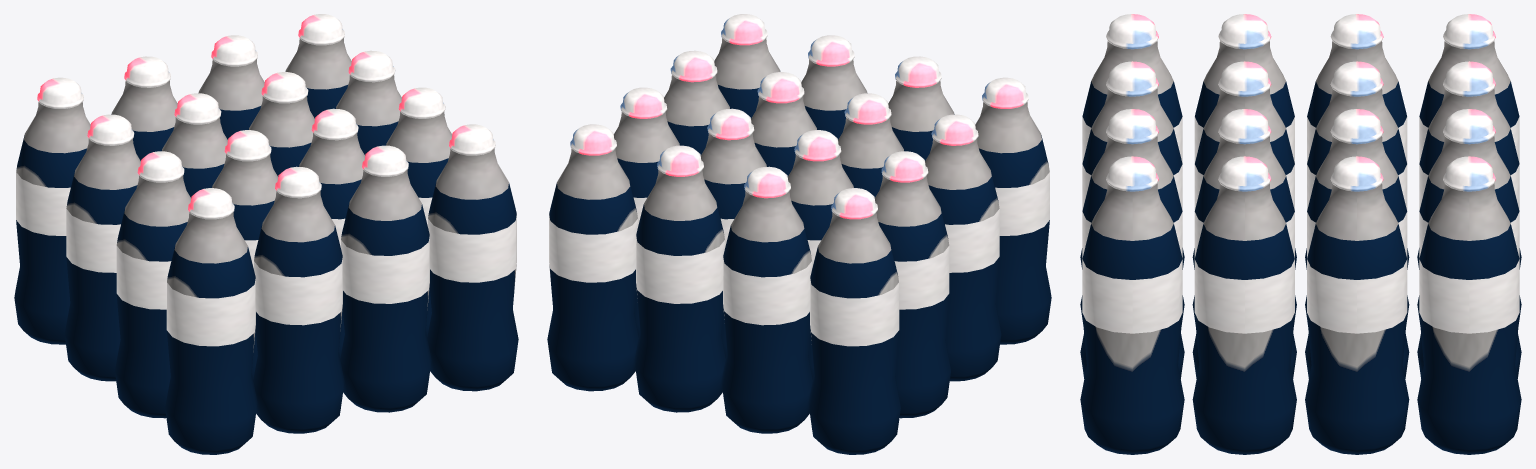
Rendered from Pepsi.fbx.
3 views of the same model, side by side, from view 1: azimuth 30°, elevation 25°; view 2: azimuth 150°, elevation 25°; view 3: azimuth 270°, elevation 25° (orthographic). The views are drawn at different scales.
Parts seen in each view (by area): view 1: Pepsi127; view 2: Pepsi127; view 3: Pepsi127.
Part boxes in pixels (<box>): Pepsi127: <box>14,14,518,454</box>; Pepsi127: <box>547,14,1051,454</box>; Pepsi127: <box>1080,14,1521,454</box>.
Bounding box in the file's own units: 39.28 × 27.21 × 39.28.
